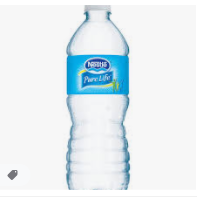Bottle: (66, 5, 131, 191)
